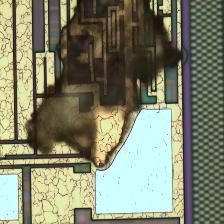BLOCK ETCH: (21, 1, 190, 173)
